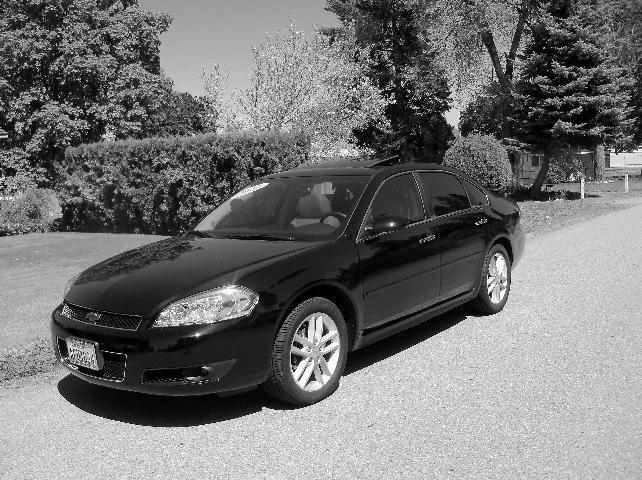car: (56, 161, 528, 407)
